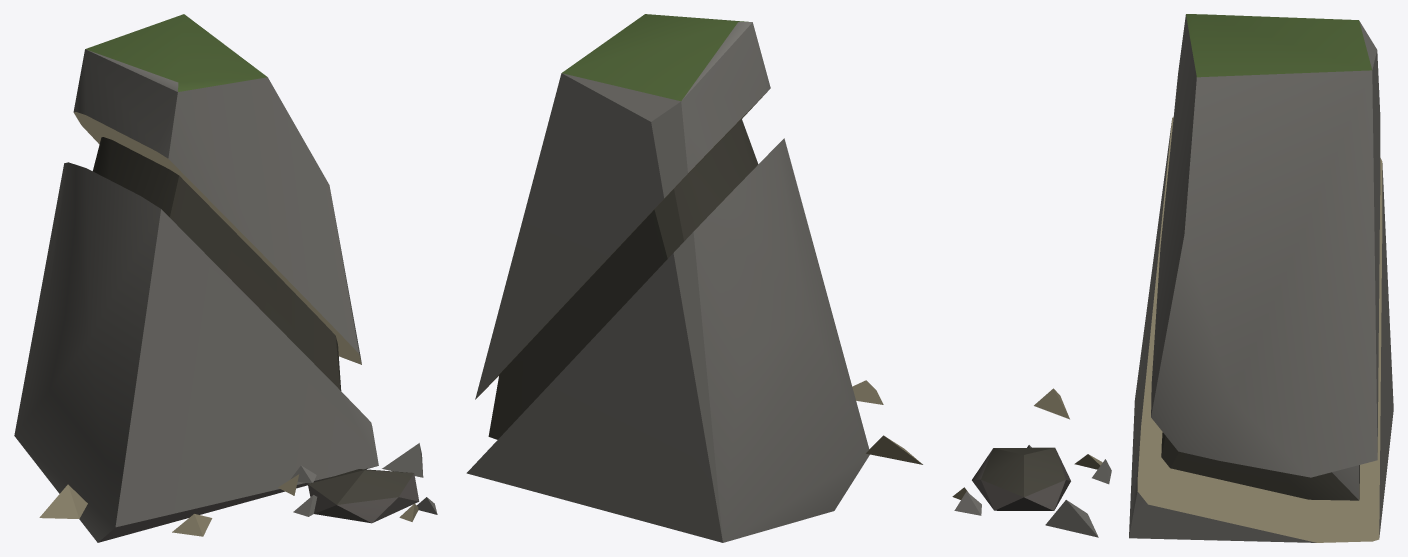
File: MiningCragADug.fbx
The picture shows the model from 3 angles, left to right: view 1: azimuth 30°, elevation 25°; view 2: azimuth 150°, elevation 25°; view 3: azimuth 270°, elevation 25°; orthographic projection. The views are drawn at different scales.
Parts seen in each view (by area): view 1: MiningCragADug; view 2: MiningCragADug; view 3: MiningCragADug.
Part boxes in pixels (x1=…): MiningCragADug: x1=14, y1=14, x2=437, y2=542; MiningCragADug: x1=466, y1=14, x2=922, y2=542; MiningCragADug: x1=952, y1=14, x2=1393, y2=542.
Size of the model in its own units: 1.5 by 1.77 by 1.49.
